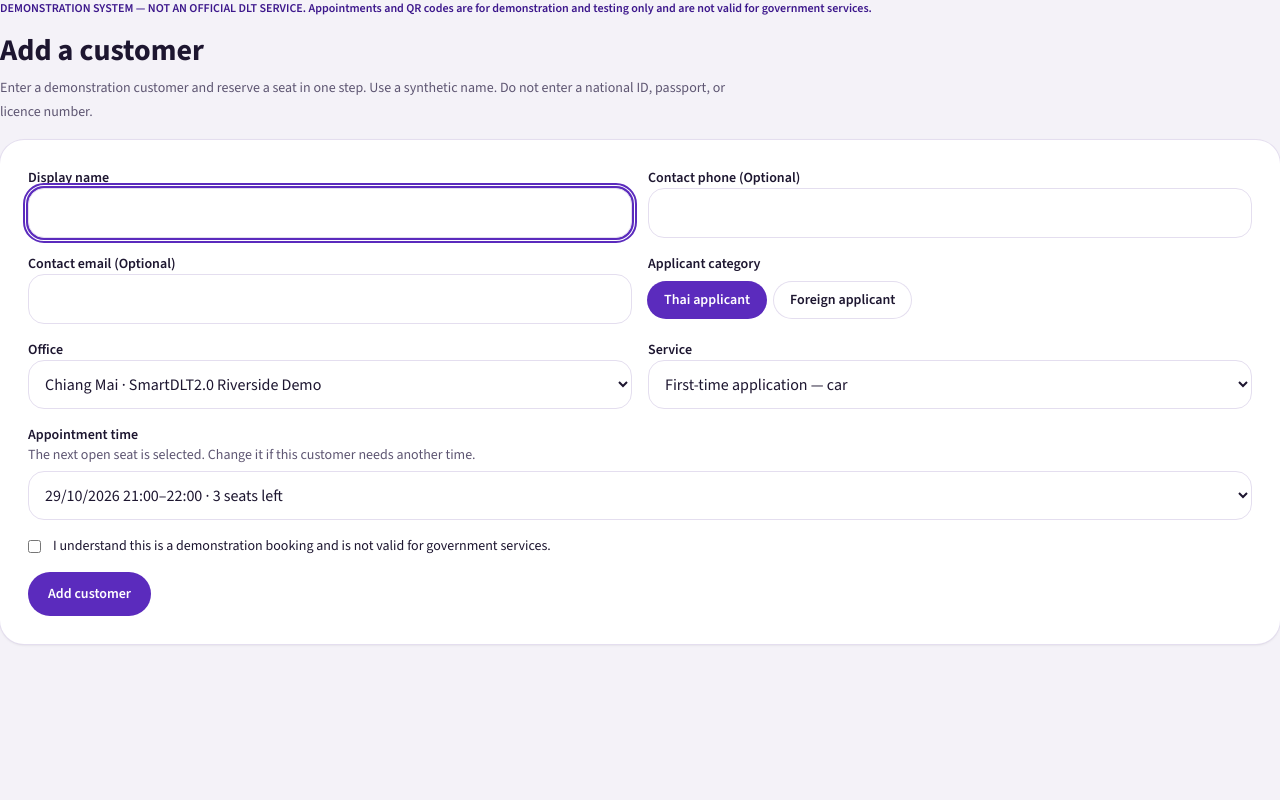
Test: staff quick signup › reserves the next seat and clears the customer so another can be entered
Type "Sample Visitor" into the field labelled "Display name" at (330, 213), box [28,188,632,238]
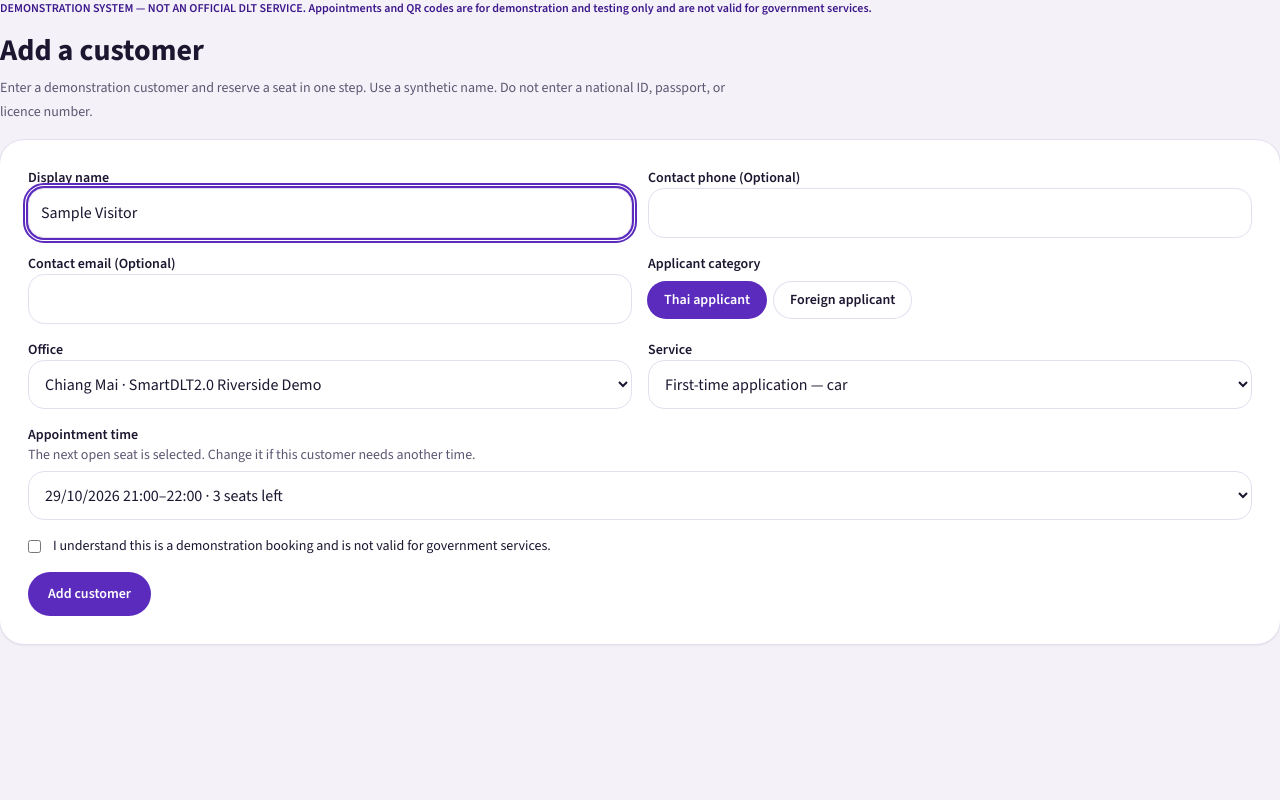
Click the checkbox labelled "demonstration booking" at (34, 546), box [28,540,41,553]
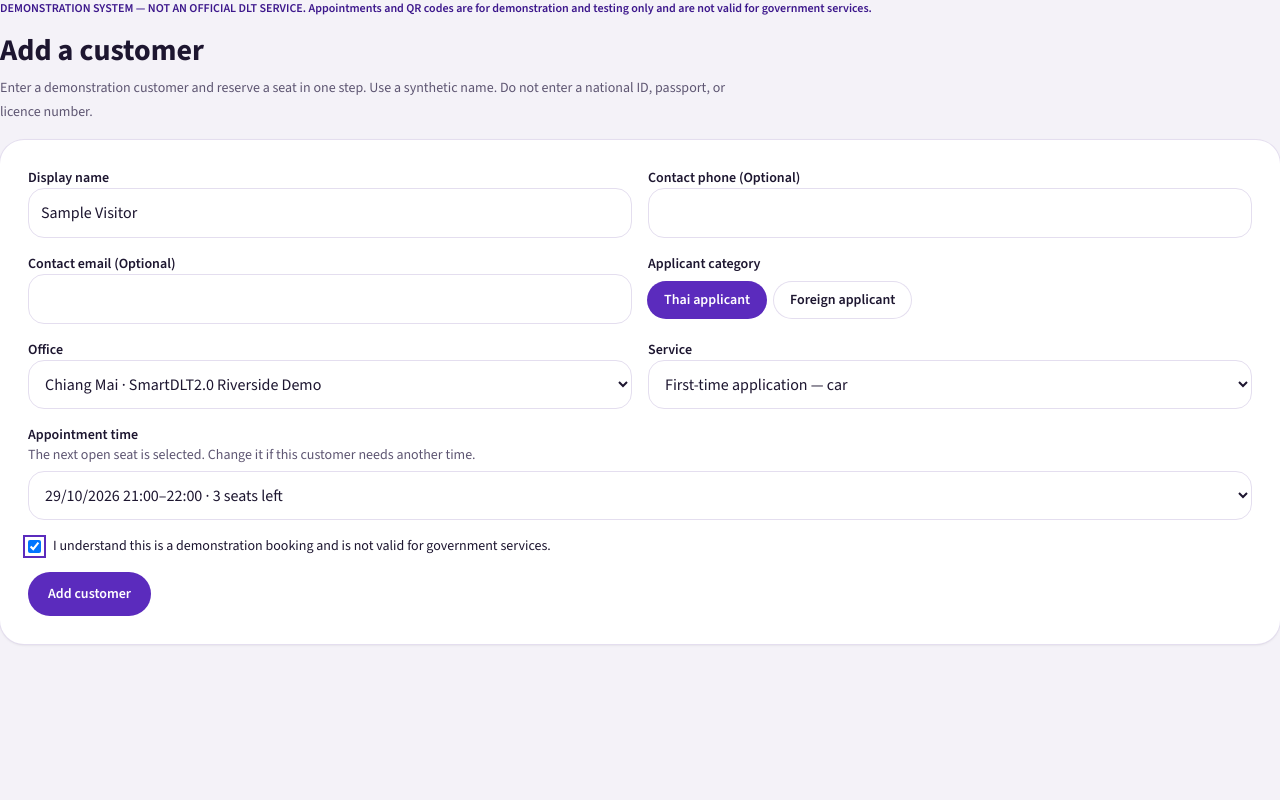
Click the button "Add customer" at (90, 594), box [28,572,151,616]
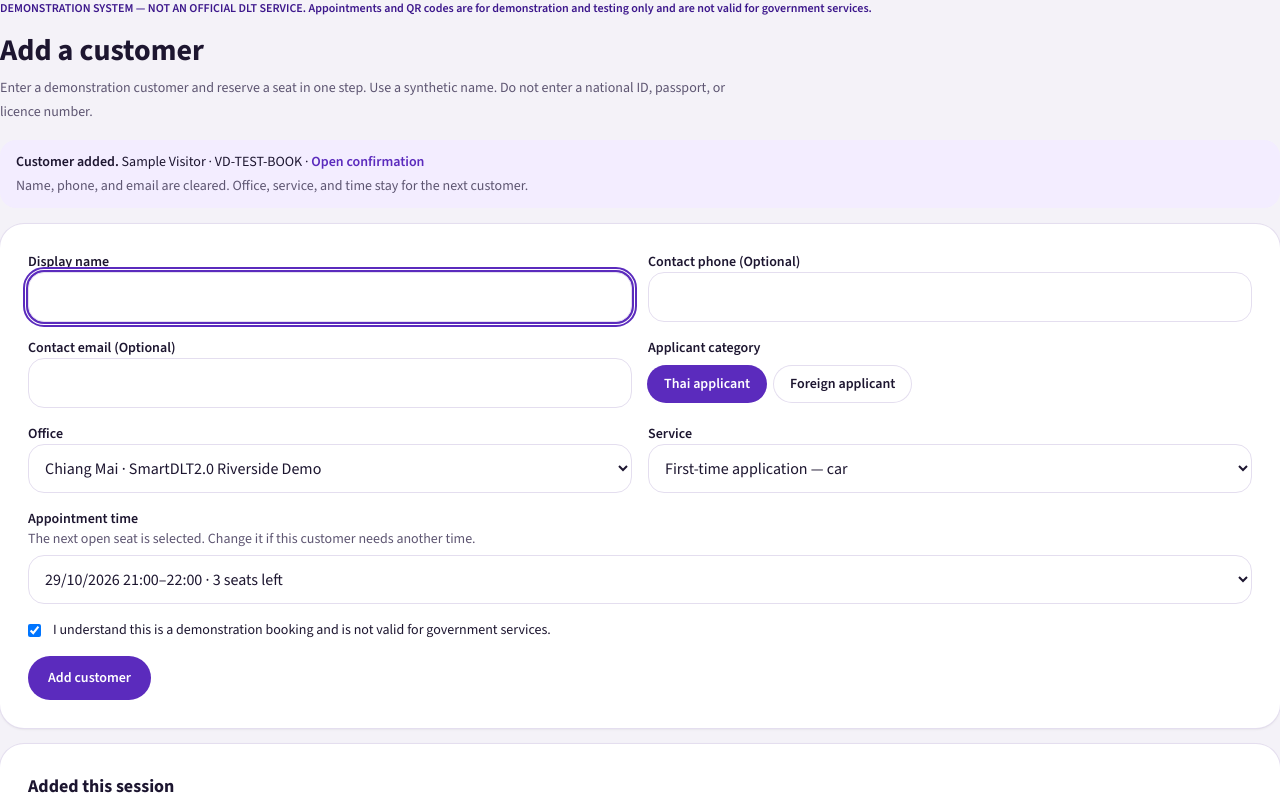
Check: the message shows "VD-TEST-BOOK", box [215,152,302,171]
Check: the field labelled "Display name" is empty, box [28,272,632,322]
